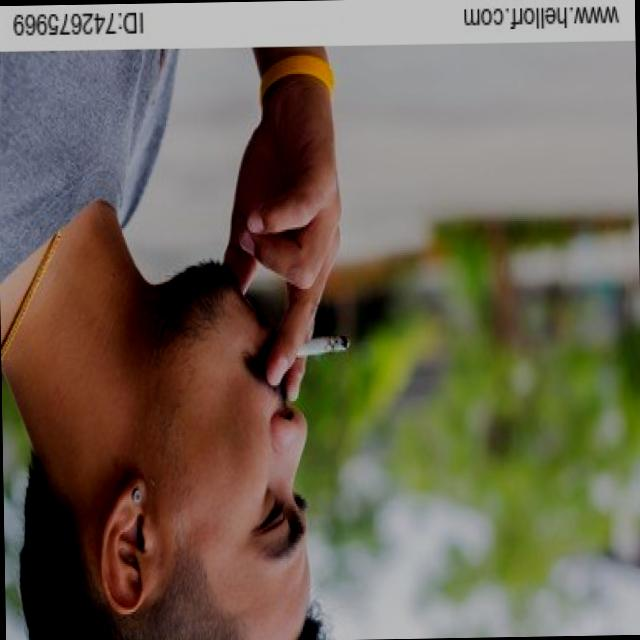smoke: (281, 330, 352, 357)
